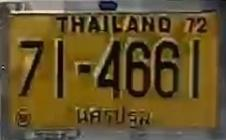1: (191, 39, 199, 97), (56, 39, 63, 97)
4: (96, 40, 120, 98)
6: (125, 40, 150, 97), (154, 40, 179, 97)
7: (18, 40, 43, 96)
NPT: (71, 103, 154, 132)
